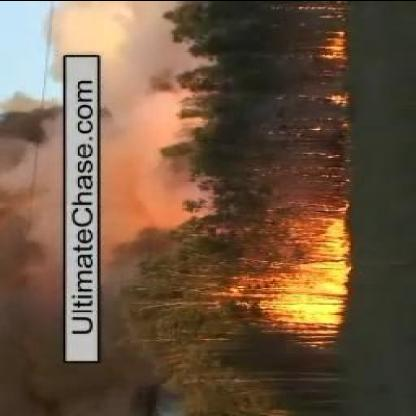-: (0, 308, 146, 413)
foggia-v2-map80-epoch100 - v1 4323: (213, 229, 348, 334)
